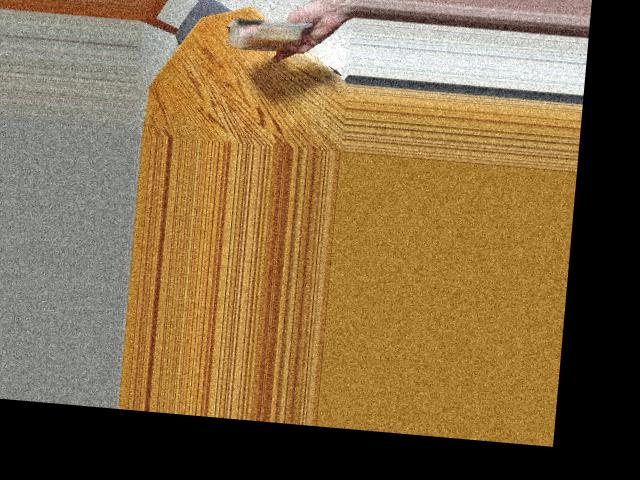cheese: (231, 1, 308, 57)
